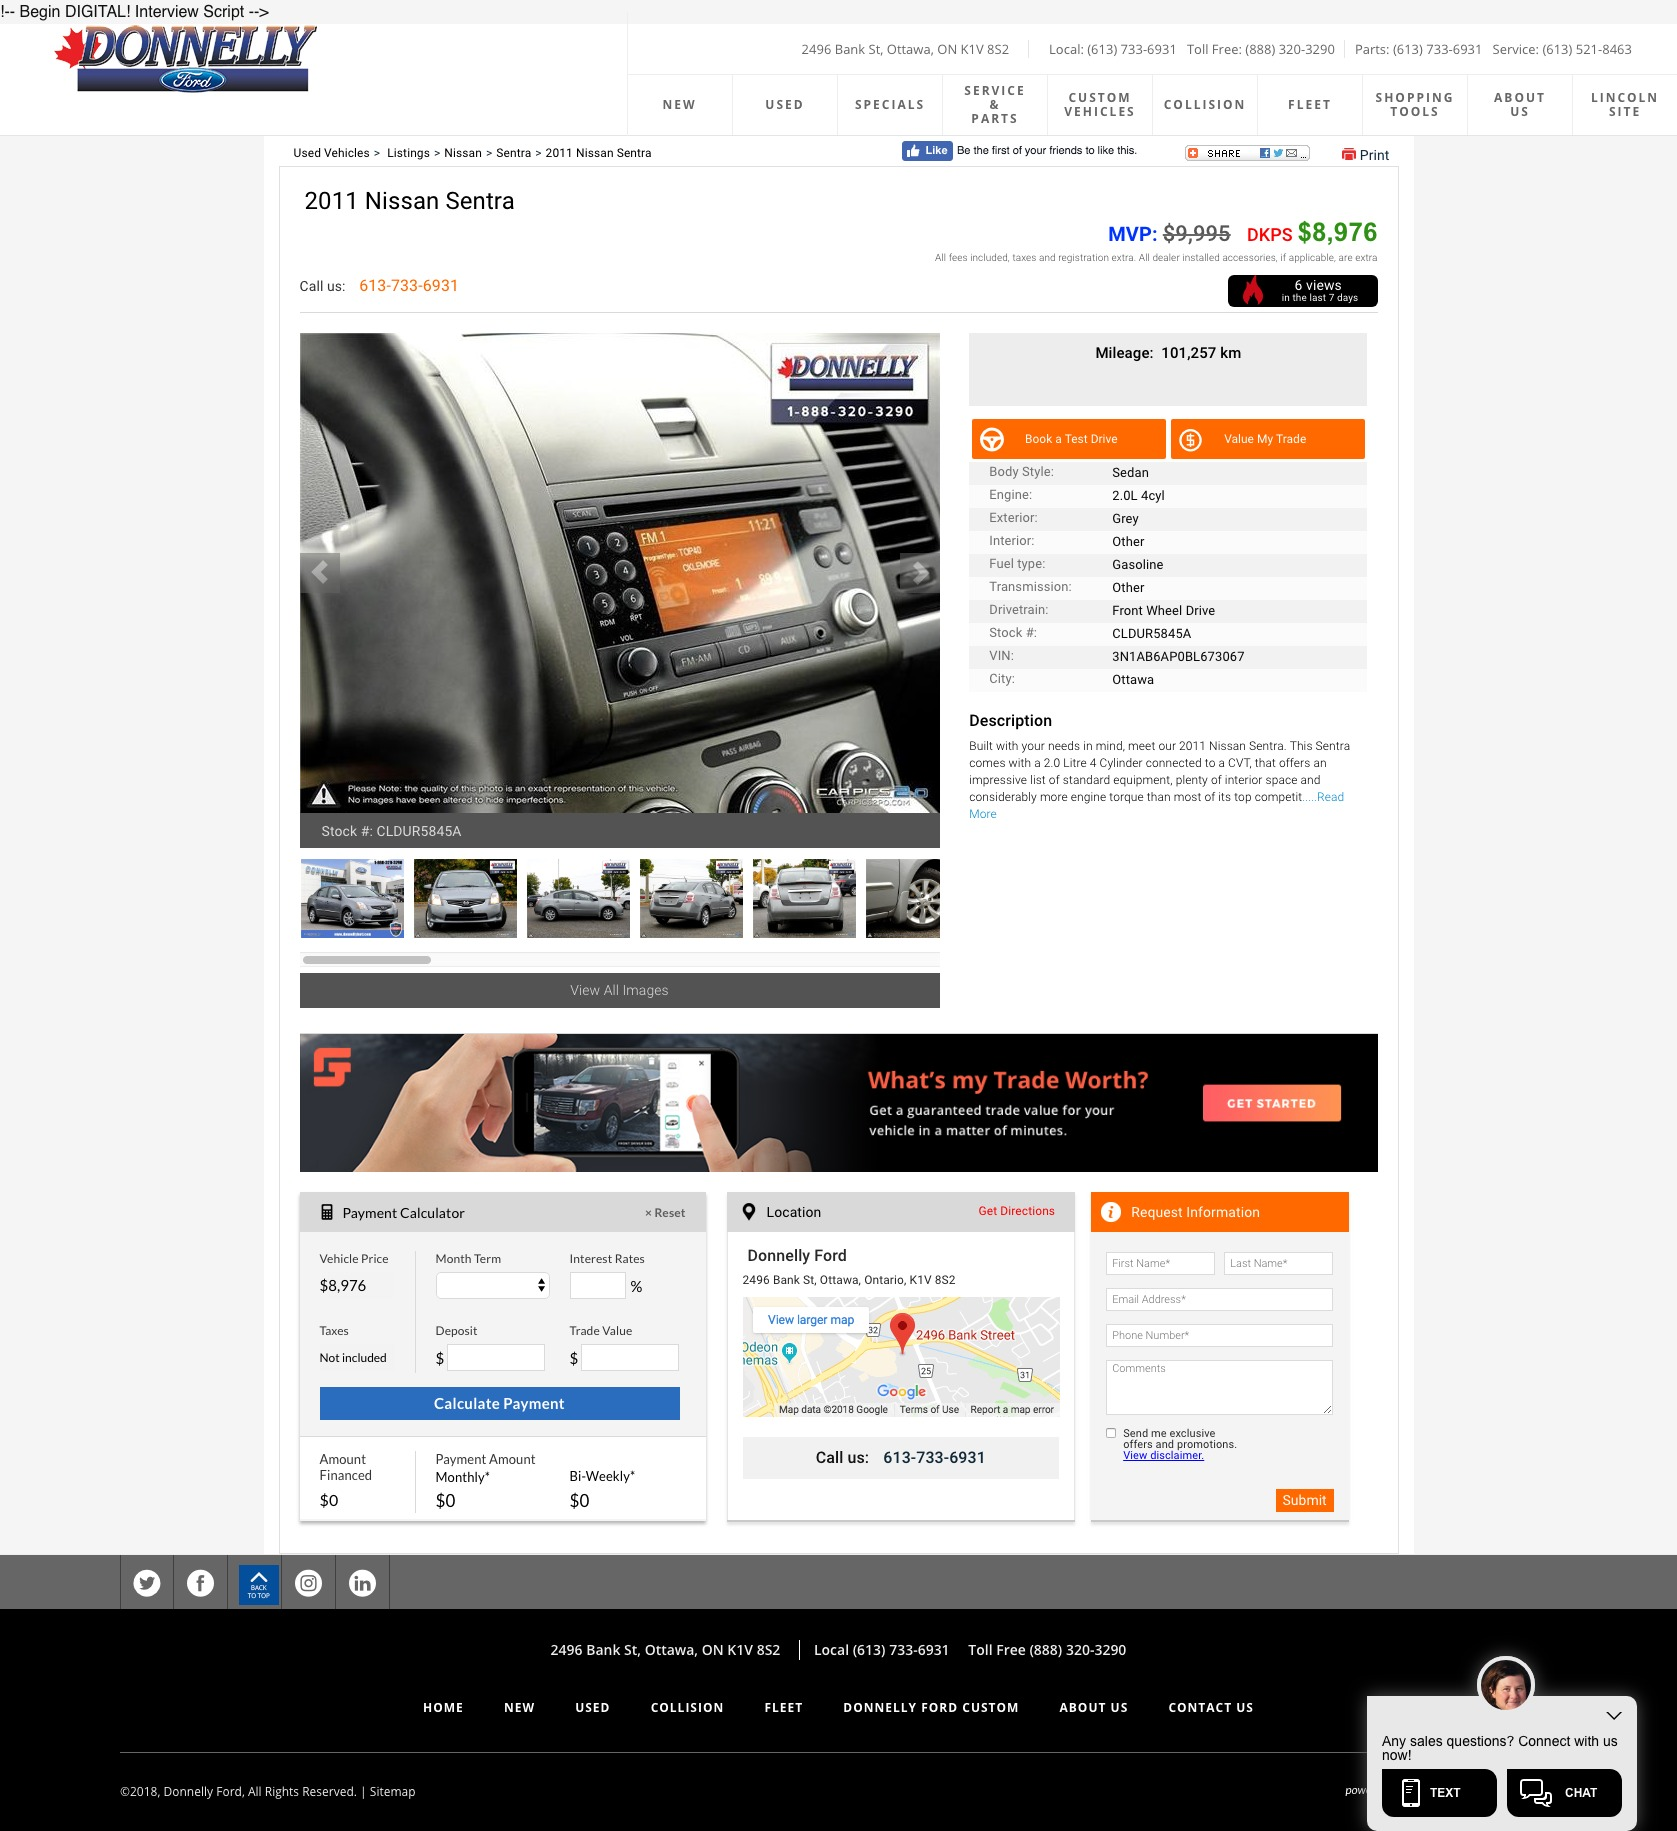car: (900, 553, 941, 595)
